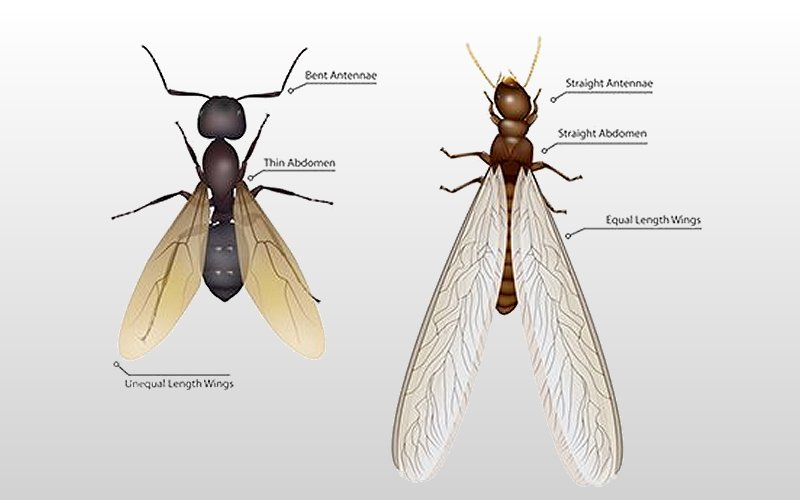flying termite: (385, 40, 637, 491)
